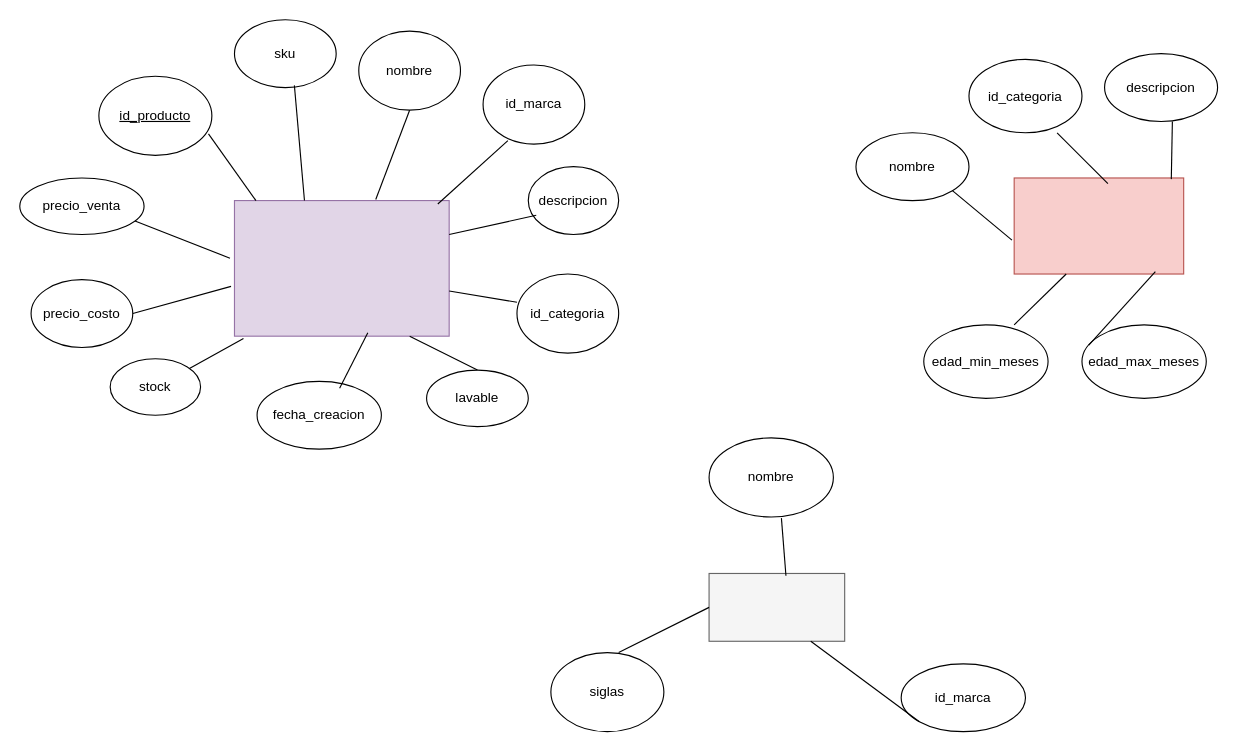
This 1237x751 diagram has some shape labels left out. The centre of each missing label's shape, as x and y in pixels:
CATEGORIAS: (x=1098, y=225)
MARCA: (x=776, y=606)
PRODUCTOS: (x=341, y=267)
